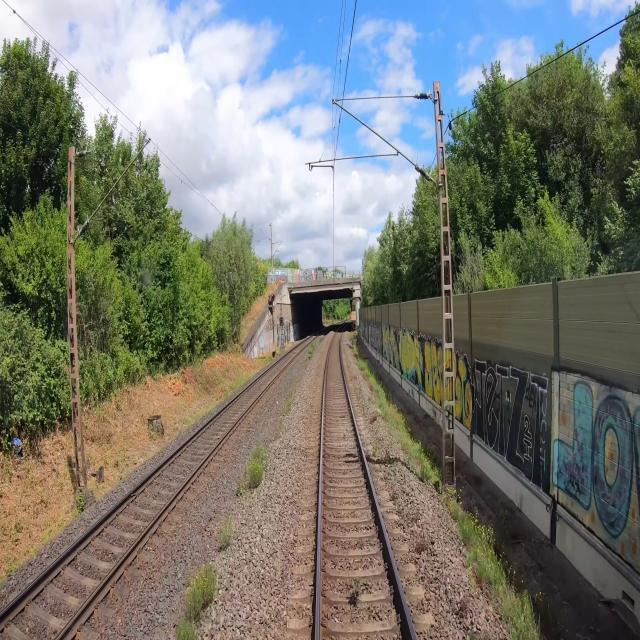Plant: (171, 560, 222, 639), (236, 445, 269, 497), (278, 377, 300, 436), (216, 513, 240, 551), (346, 576, 360, 608), (414, 538, 429, 556), (454, 599, 468, 618), (372, 435, 381, 460), (308, 340, 316, 358), (370, 409, 380, 422)
